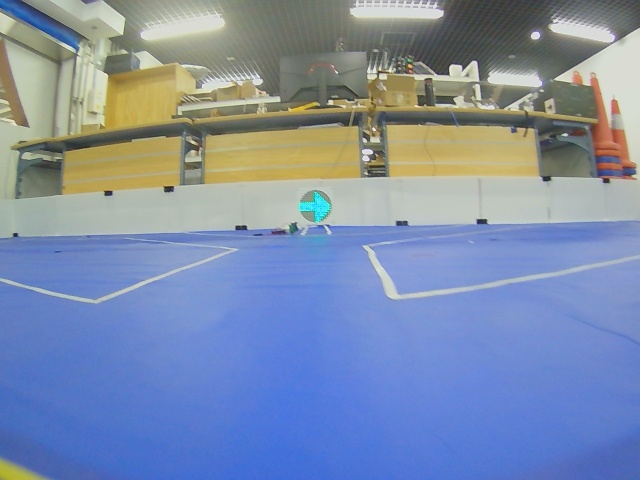right_green: (299, 190, 332, 223)
